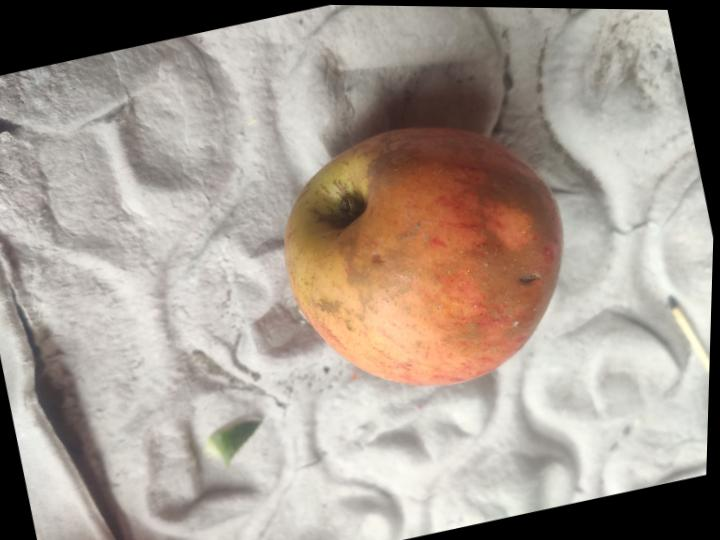apple: (285, 128, 562, 384)
bruise_discoloration: (341, 142, 562, 335)
surface_damage: (518, 274, 540, 284)
